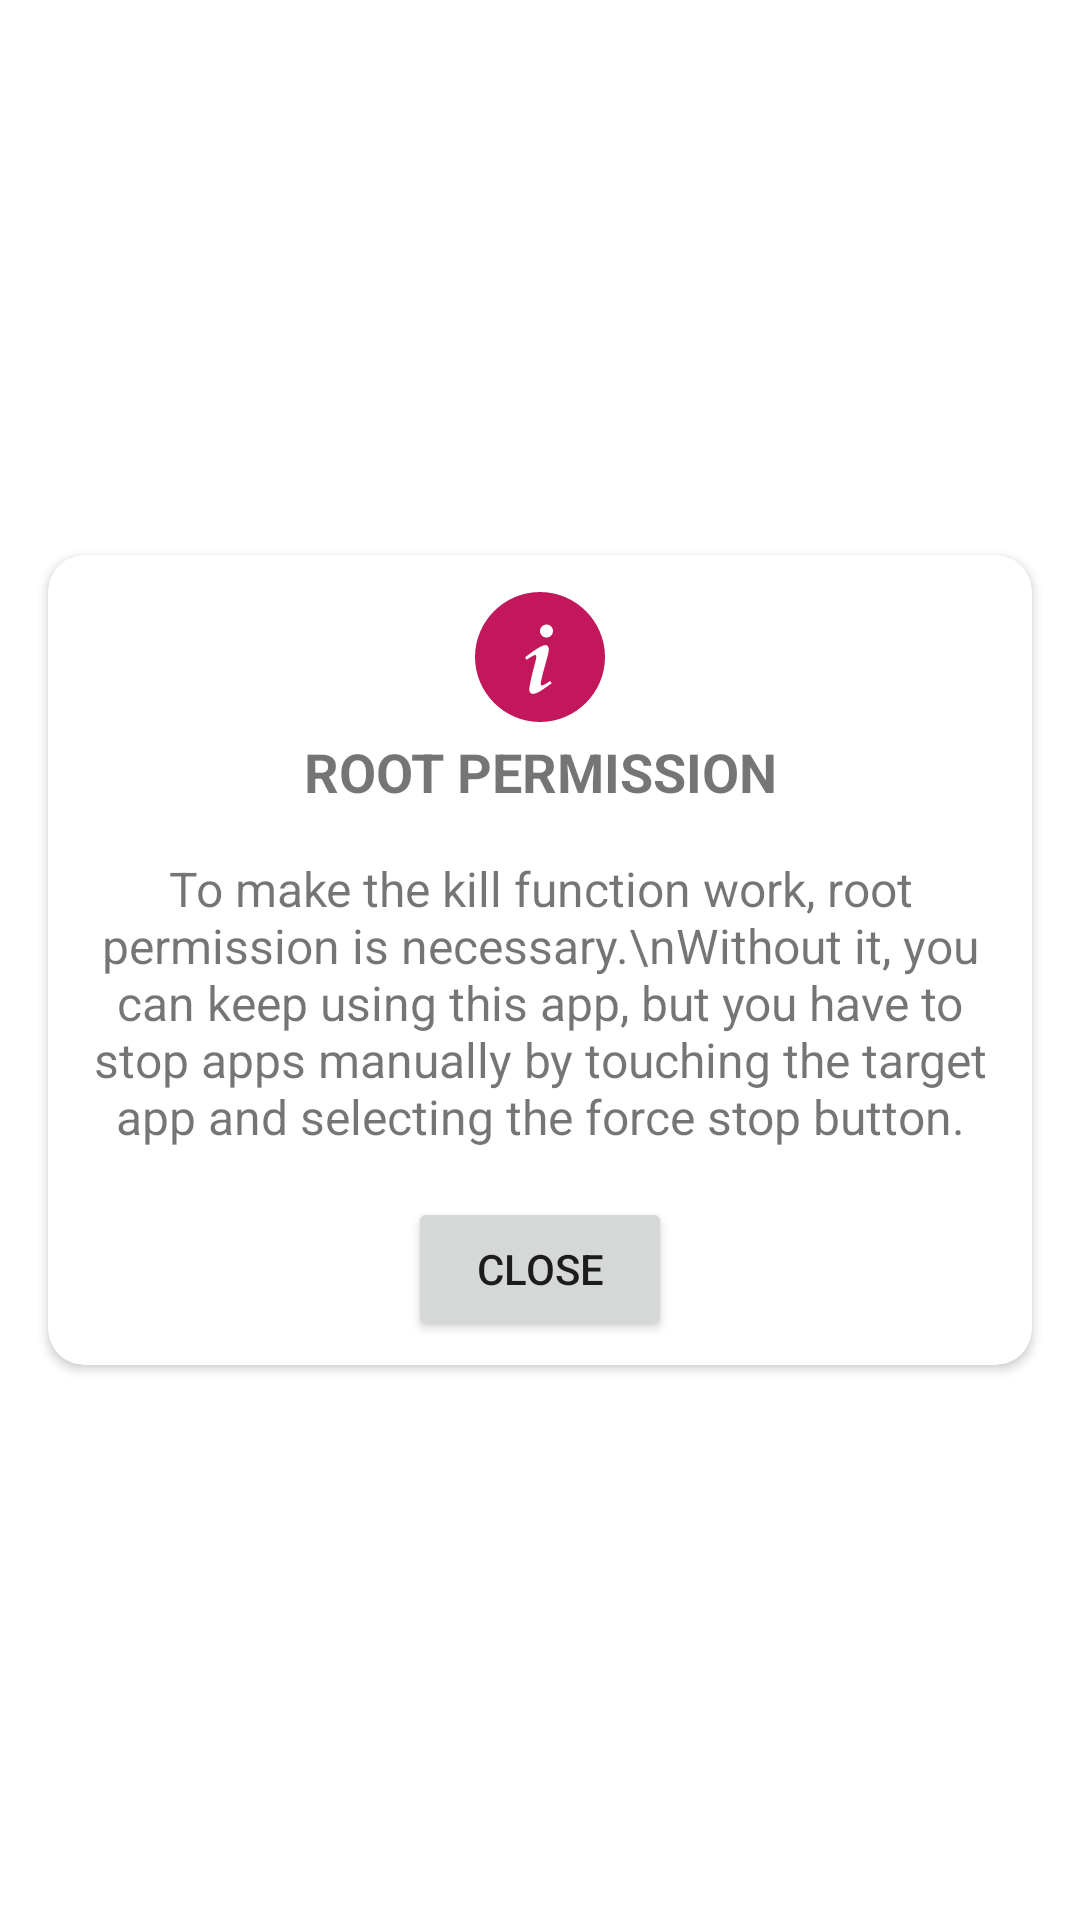

Where to tap for icons on this 1080px x 1920px app screen, as (x=x, y=y):
info: (x=540, y=657)
